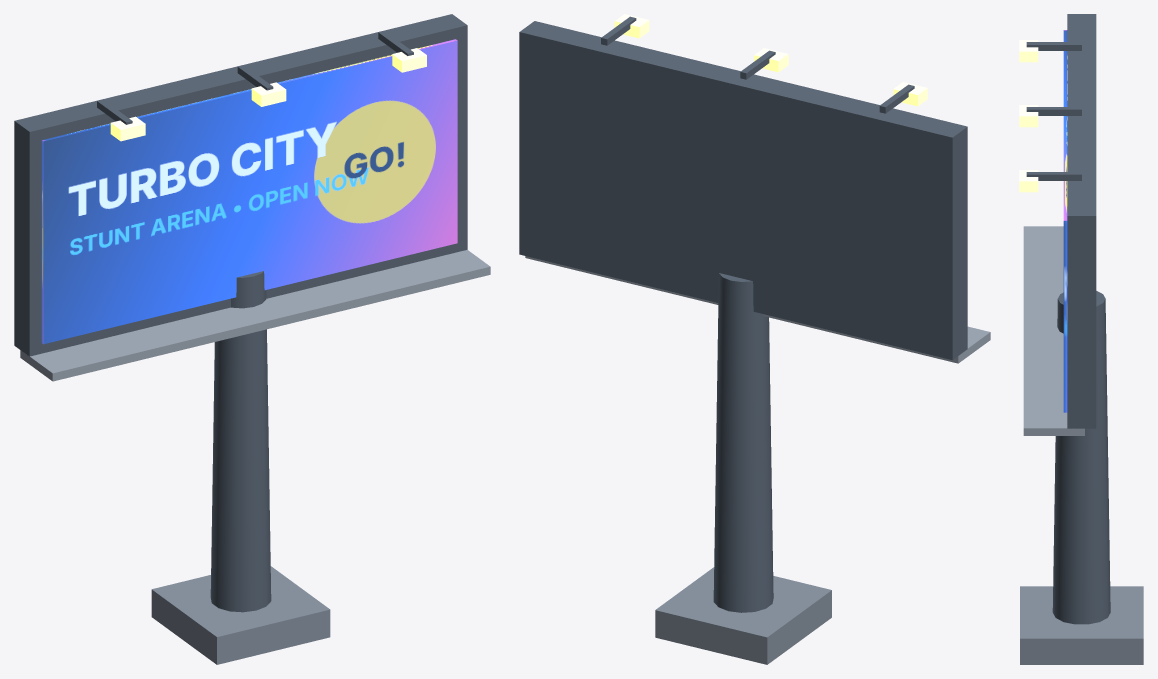
File: billboard_street_sign.glb
The picture shows the model from 3 angles, left to right: view 1: azimuth 30°, elevation 25°; view 2: azimuth 150°, elevation 25°; view 3: azimuth 270°, elevation 25°; orthographic projection. The views are drawn at different scales.
Parts seen in each view (by area): view 1: billboard_street_sign; view 2: billboard_street_sign; view 3: billboard_street_sign.
Boxes of the visible parts, x1,y1,x2,y2 form: billboard_street_sign: [14, 14, 490, 664]; billboard_street_sign: [519, 14, 990, 664]; billboard_street_sign: [1019, 14, 1143, 664].
Size of the model in its own units: 5.6 by 6.86 by 1.46.
5 materials, 1 textured.
